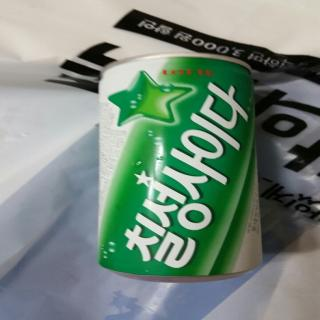cocacola: (100, 52, 262, 284)
